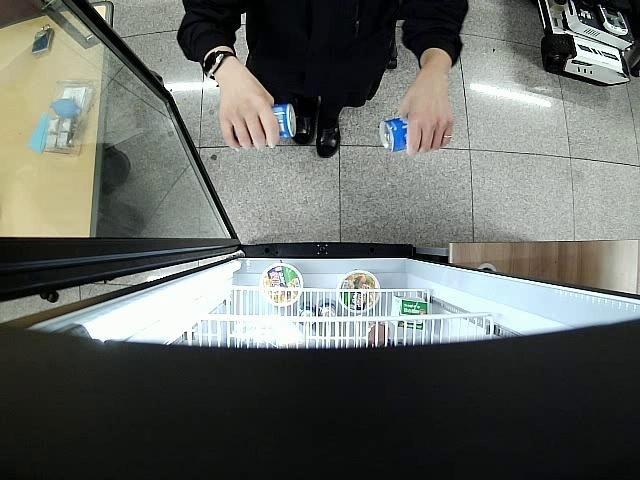15_letsbe: (233, 103, 296, 142), (379, 118, 408, 153)
